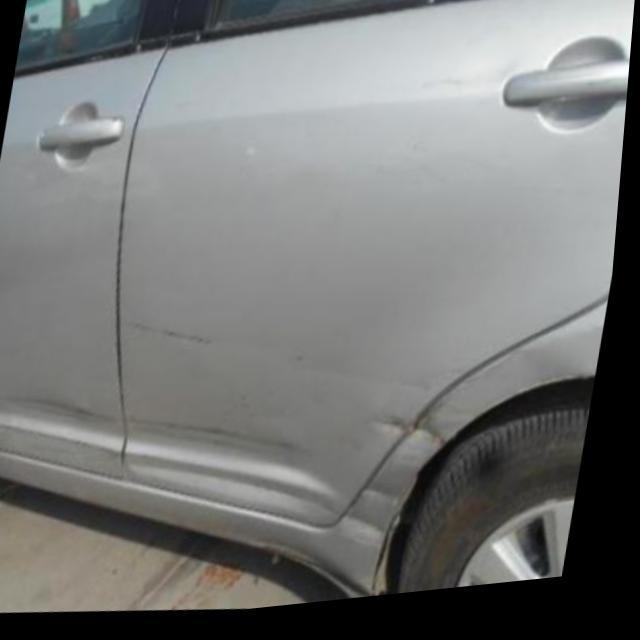rub: (348, 350, 567, 556)
scratch: (4, 396, 309, 467), (125, 321, 230, 356)
